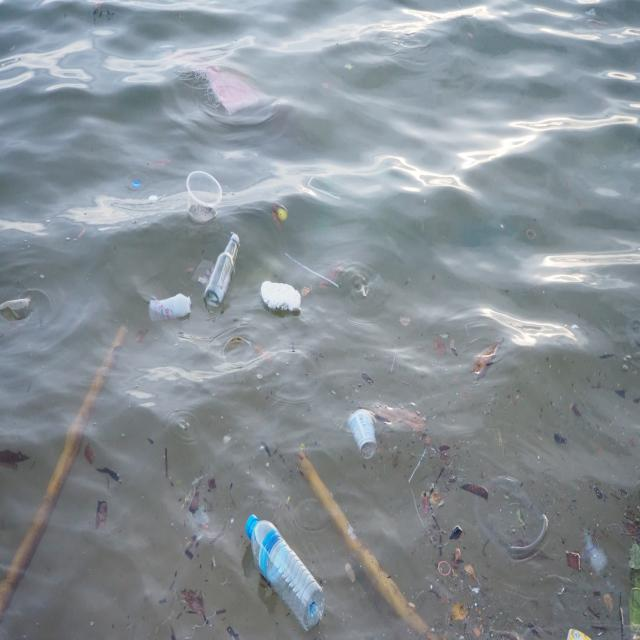foam: (254, 278, 305, 320)
plastic: (245, 508, 323, 628), (201, 228, 243, 312), (146, 290, 194, 328)
plastic bottle: (182, 170, 226, 224), (348, 406, 380, 459)
unknow: (464, 465, 554, 570), (177, 56, 270, 121), (578, 526, 609, 577), (0, 290, 31, 328)
